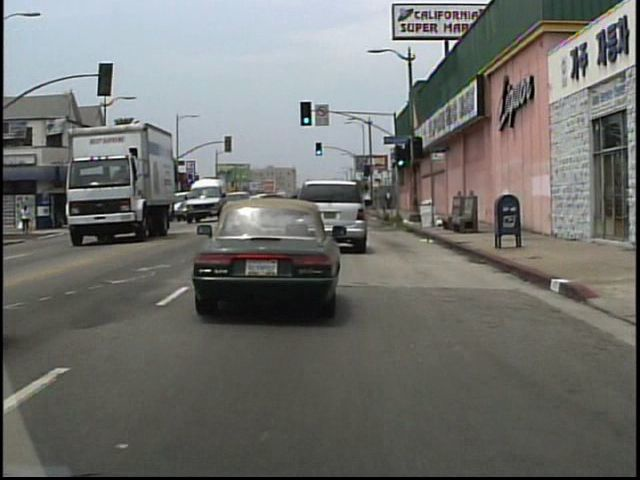person: (22, 205, 33, 235), (385, 188, 394, 210)
